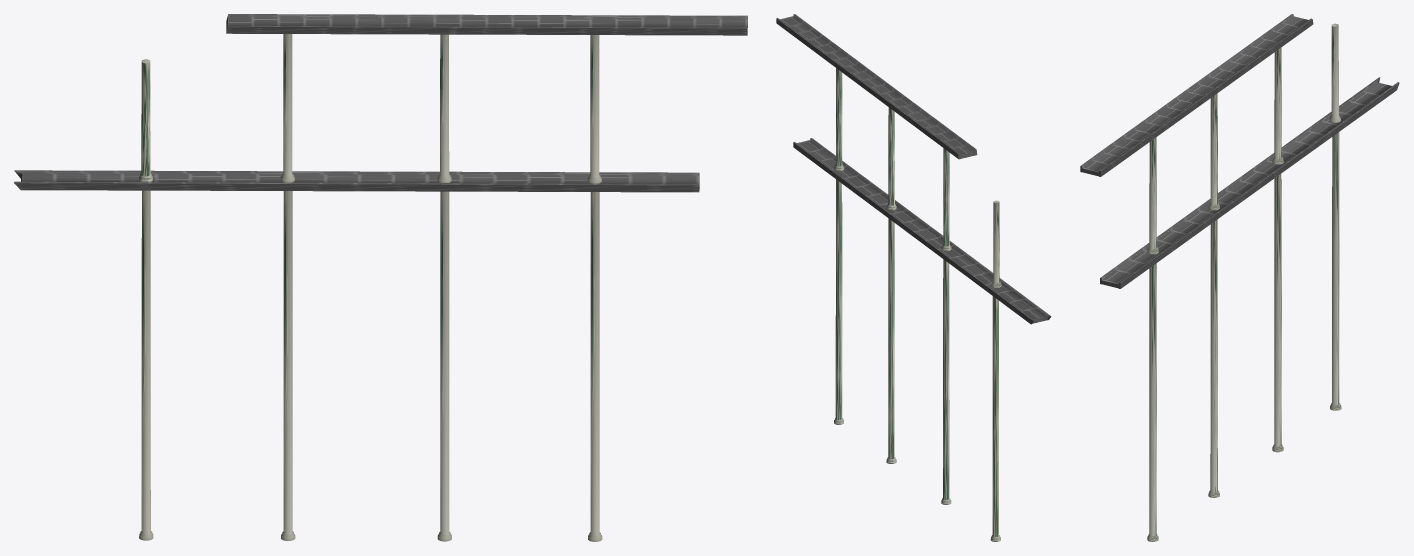
The model's file is TwoTierTallRunwayTextured1.FBX.
3 views of the same model, side by side, from view 1: azimuth 30°, elevation 25°; view 2: azimuth 150°, elevation 25°; view 3: azimuth 270°, elevation 25° (orthographic). The views are drawn at different scales.
Visible parts, largest first — view 1: Box004, Box003, Cylinder025, Cylinder024, Cylinder026, Cylinder023, Cylinder028, Cylinder029, Cylinder027, Cylinder014; view 2: Box004, Box003, Cylinder026, Cylinder025, Cylinder024, Cylinder023, Cylinder027, Cylinder028, Cylinder029, Cylinder014; view 3: Box004, Box003, Cylinder023, Cylinder024, Cylinder026, Cylinder025, Cylinder028, Cylinder027, Cylinder029, Cylinder014.
Part boxes in pixels (x1,y1,x2,y2): Box004: (14, 170, 699, 192); Box003: (226, 14, 747, 35); Cylinder025: (437, 191, 451, 541); Cylinder024: (281, 191, 295, 540); Cylinder026: (588, 192, 602, 541); Cylinder023: (139, 190, 153, 540); Cylinder028: (280, 34, 294, 182); Cylinder029: (587, 35, 601, 183); Cylinder027: (437, 34, 451, 182); Cylinder014: (138, 59, 152, 181); Box004: (793, 138, 1051, 324); Box003: (776, 14, 977, 159); Cylinder026: (834, 179, 843, 424); Cylinder025: (886, 218, 896, 463); Cylinder024: (941, 259, 951, 504); Cylinder023: (990, 296, 1000, 541); Cylinder027: (886, 107, 896, 210); Cylinder028: (941, 148, 951, 251); Cylinder029: (834, 68, 844, 171); Cylinder014: (991, 200, 1001, 287); Box004: (1100, 77, 1399, 288); Box003: (1080, 14, 1313, 176); Cylinder023: (1330, 132, 1341, 410); Cylinder024: (1272, 174, 1283, 452); Cylinder026: (1147, 263, 1158, 541); Cylinder025: (1208, 219, 1219, 497); Cylinder028: (1272, 47, 1283, 164); Cylinder027: (1208, 93, 1219, 210); Cylinder029: (1147, 137, 1158, 254); Cylinder014: (1329, 23, 1340, 122).
Size of the model in its own units: 1175 by 1037 by 722.
2 materials, 2 textured.
